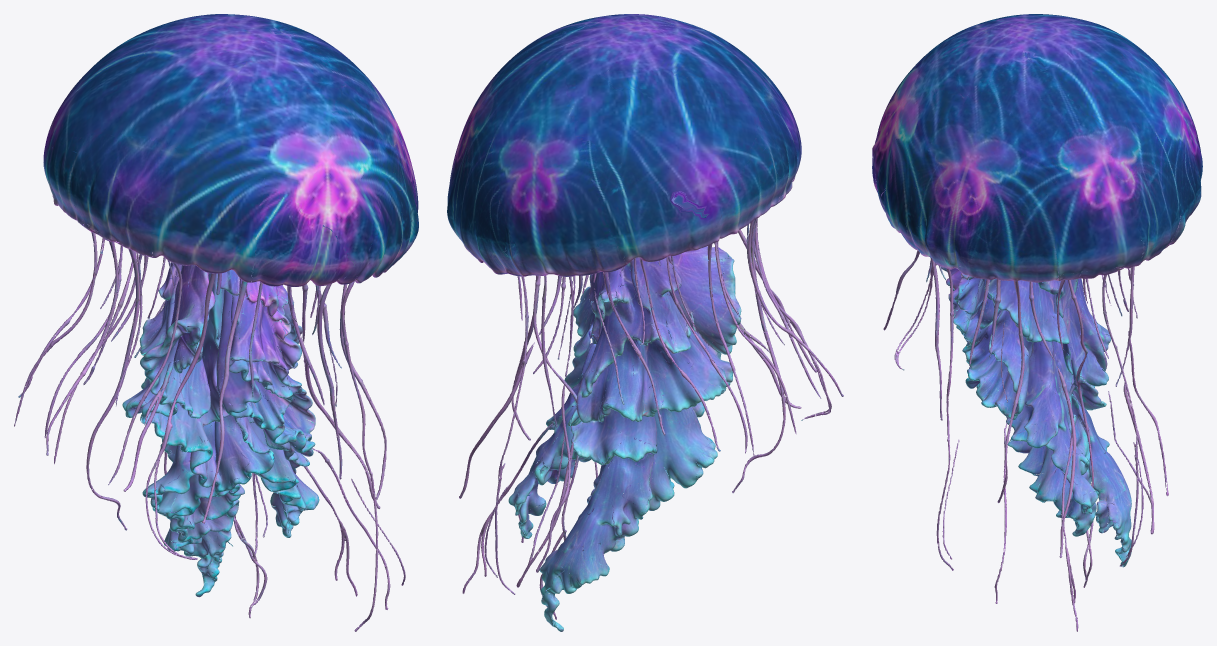
The model's file is reef_life_neon_jellyfish_under25mb.glb.
3 renders of one model, left to right at view 1: azimuth 30°, elevation 25°; view 2: azimuth 150°, elevation 25°; view 3: azimuth 270°, elevation 25°, orthographic. The views are drawn at different scales.
Size of the model in its own units: 1.2 by 1.9 by 1.06.
1 material, 1 textured.
